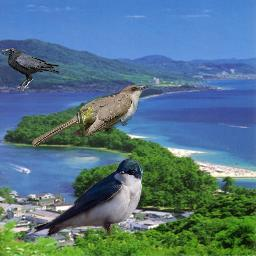Crow: (2, 48, 60, 91)
Cuckoo: (31, 84, 148, 147)
Swallow: (32, 158, 143, 236)
